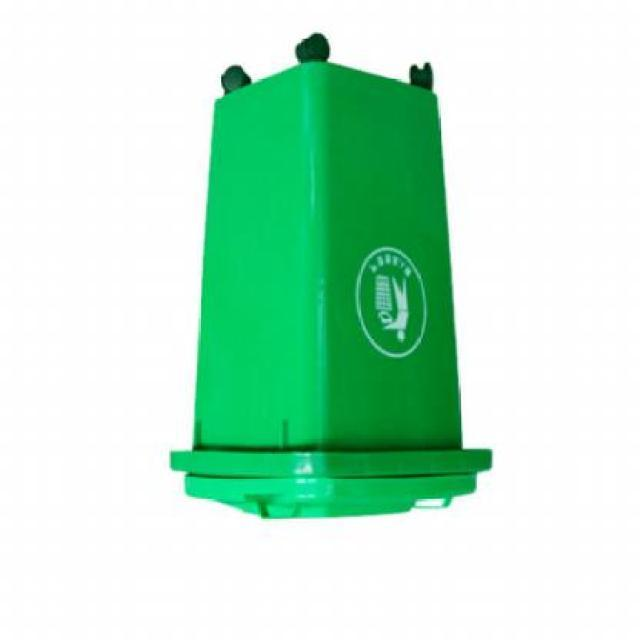garbage container: (149, 9, 508, 543)
